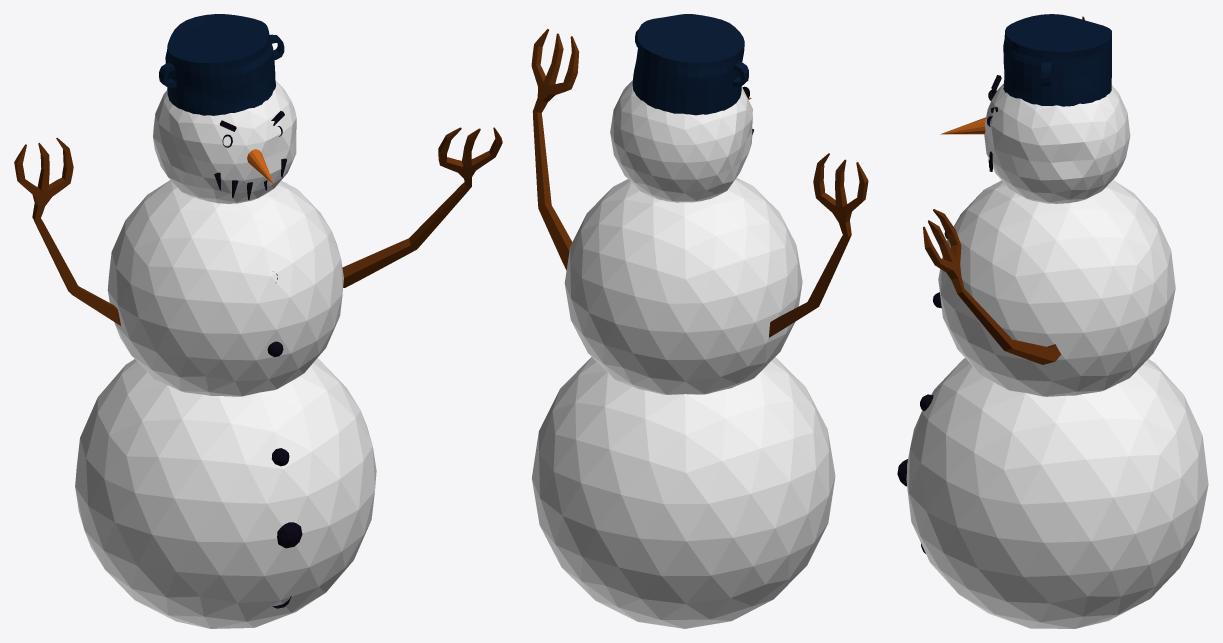
Rendered from snehulak1 6.fbx.
3 views of the same model, side by side, from view 1: azimuth 30°, elevation 25°; view 2: azimuth 150°, elevation 25°; view 3: azimuth 270°, elevation 25° (orthographic).
Parts seen in each view (by area): view 1: Icosphere, Icosphere.001, Icosphere.002, Cylinder, Cube.017, Cube.001; view 2: Icosphere, Icosphere.001, Icosphere.002, Cylinder, Cube.017, Cube.001; view 3: Icosphere, Icosphere.001, Icosphere.002, Cylinder, Cube.017.
Boxes of the visible parts, x1,y1,x2,y2 form: Icosphere: [75, 358, 376, 628]; Icosphere.001: [107, 180, 343, 396]; Icosphere.002: [153, 81, 296, 203]; Cylinder: [159, 14, 284, 115]; Cube.017: [342, 127, 502, 287]; Cube.001: [14, 137, 120, 325]; Icosphere: [531, 357, 835, 628]; Icosphere.001: [564, 177, 802, 394]; Icosphere.002: [610, 80, 752, 202]; Cylinder: [632, 14, 748, 115]; Cube.017: [531, 29, 579, 270]; Cube.001: [769, 153, 868, 337]; Icosphere: [906, 358, 1208, 628]; Icosphere.001: [938, 180, 1175, 396]; Icosphere.002: [984, 83, 1130, 203]; Cylinder: [1003, 14, 1111, 106]; Cube.017: [923, 209, 1060, 364].
Bounding box in the file's own units: 205 × 424 × 311.
